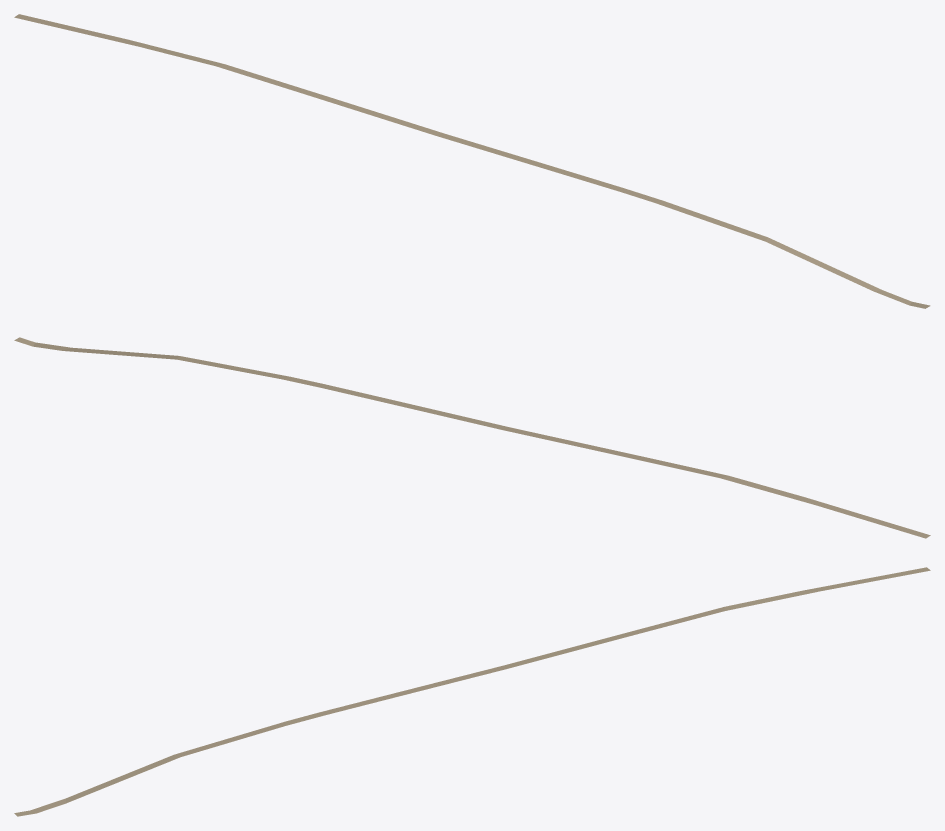
The model's file is farm_30_15_track.glb.
The picture shows the model from 3 angles, top to bottom: view 1: azimuth 30°, elevation 25°; view 2: azimuth 210°, elevation 25°; view 3: azimuth 270°, elevation 25°; orthographic projection. The views are drawn at different scales.
Visible parts, largest first — view 1: geometry_0; view 2: geometry_0; view 3: geometry_0.
Part boxes in pixels (x1,y1,x2,y2): geometry_0: (14,14,930,308); geometry_0: (14,337,930,538); geometry_0: (14,567,930,816).
Bounding box in the file's own units: 177 × 20.37 × 334.
